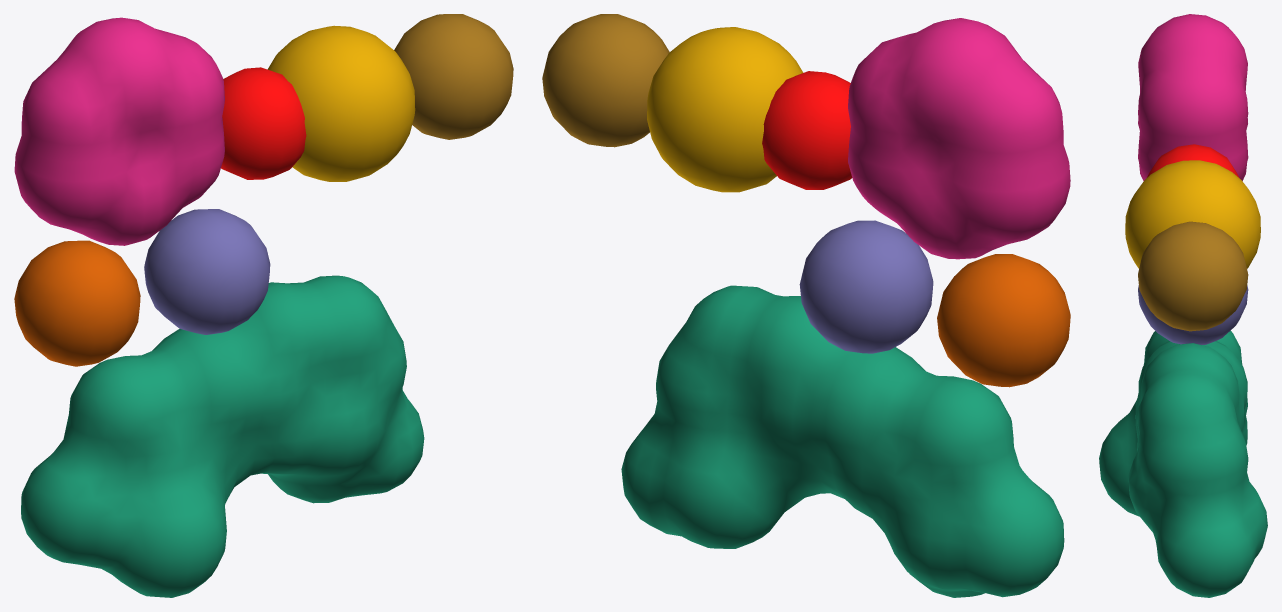
Rendered from viewer-surface-materials.obj.
3 renders of one model, left to right at view 1: azimuth 30°, elevation 25°; view 2: azimuth 150°, elevation 25°; view 3: azimuth 270°, elevation 25°, orthographic. The views are drawn at different scales.
Bounding box in the file's own units: 14.89 × 16.41 × 5.18.
